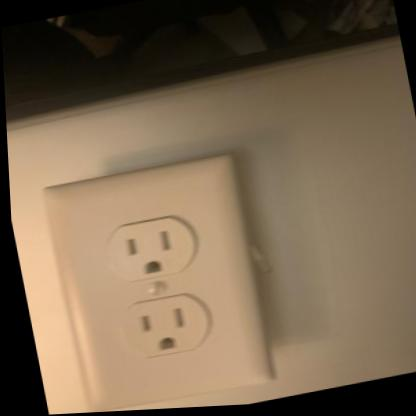OUTLET: (44, 151, 280, 414)
